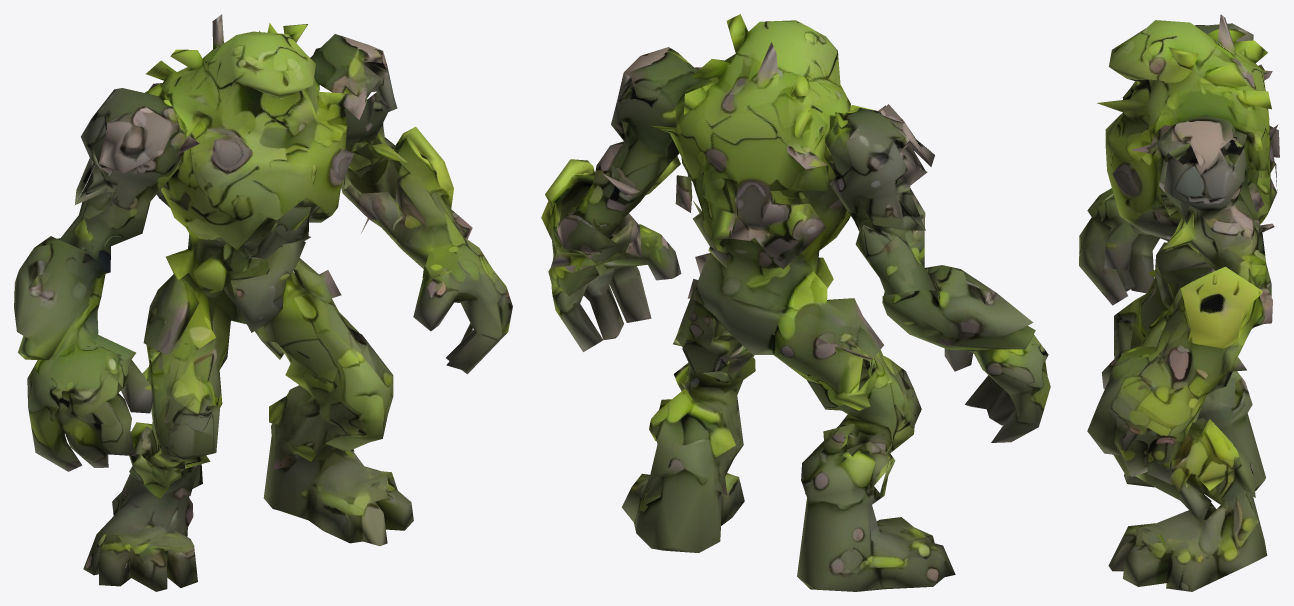
File: monstro+3d+estilizado.glb
3 views of the same model, side by side, from view 1: azimuth 30°, elevation 25°; view 2: azimuth 150°, elevation 25°; view 3: azimuth 270°, elevation 25° (orthographic). The views are drawn at different scales.
Visible parts, largest first — view 1: tripo_node_fc7e9efc-51d1-4594-acf6-3f698354a143; view 2: tripo_node_fc7e9efc-51d1-4594-acf6-3f698354a143; view 3: tripo_node_fc7e9efc-51d1-4594-acf6-3f698354a143.
Part boxes in pixels (left/top/right/bottom): tripo_node_fc7e9efc-51d1-4594-acf6-3f698354a143: left=14, top=14, right=512, bottom=591; tripo_node_fc7e9efc-51d1-4594-acf6-3f698354a143: left=541, top=14, right=1050, bottom=591; tripo_node_fc7e9efc-51d1-4594-acf6-3f698354a143: left=1079, top=14, right=1279, bottom=591.
Bounding box in the file's own units: 0.9809 × 1.01 × 0.3622.
1 material, 1 textured.
